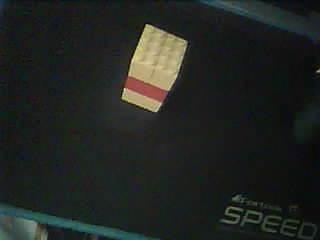lego: (120, 23, 188, 112)
